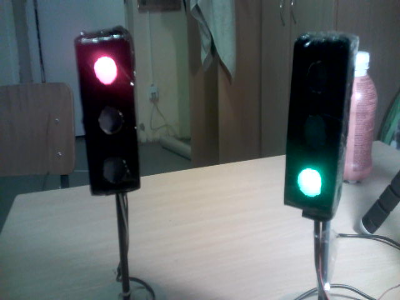trafficlight_green: (286, 43, 350, 203)
trafficlight_red: (84, 37, 132, 192)
